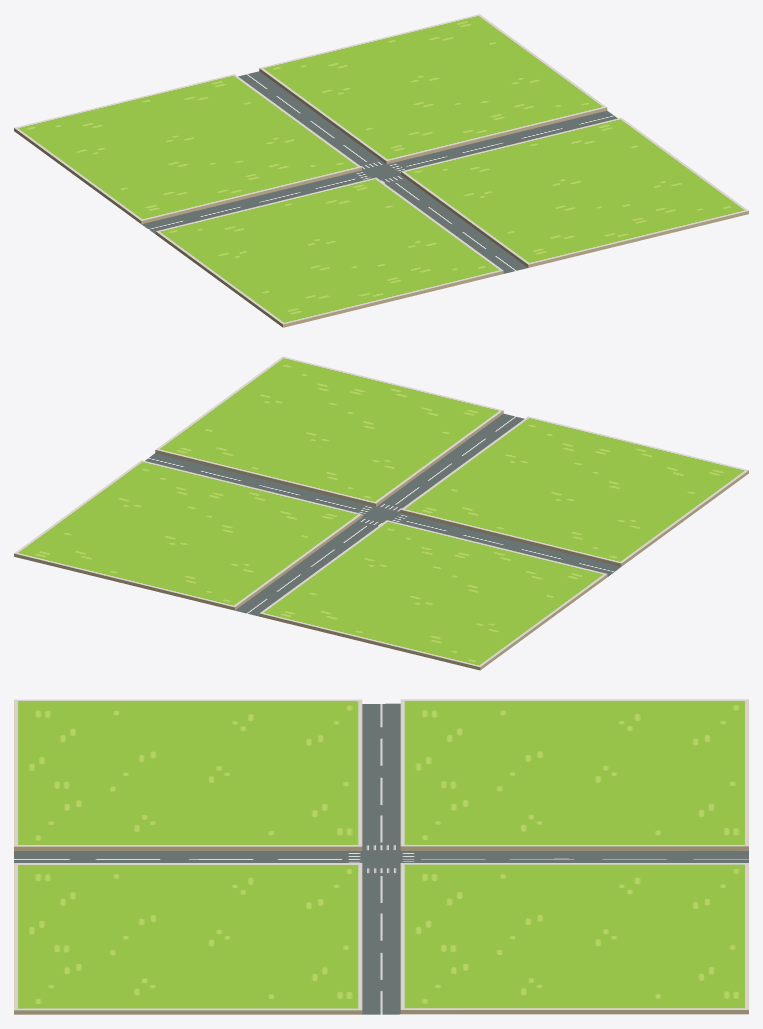
Rendered from Scene_base_land.FBX.
The picture shows the model from 3 angles, top to bottom: view 1: azimuth 30°, elevation 25°; view 2: azimuth 150°, elevation 25°; view 3: azimuth 270°, elevation 25°; orthographic projection. The views are drawn at different scales.
Parts seen in each view (by area): view 1: land; view 2: land; view 3: land.
Part boxes in pixels (x1,y1,x2,y2): land: [14, 14, 748, 327]; land: [14, 356, 748, 670]; land: [14, 699, 748, 1014].
Bounding box in the file's own units: 3803 × 25.4 × 3799.
1 material, 1 textured.
